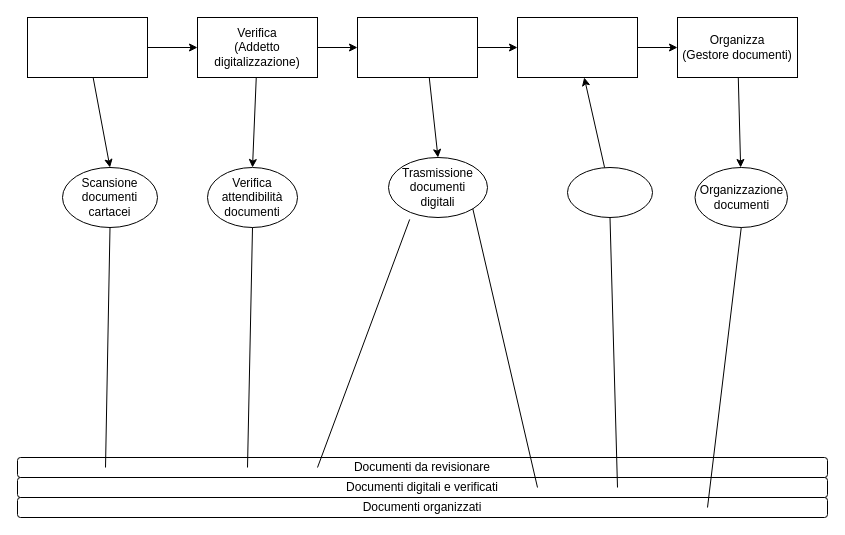
Image size: 845x535. Some labels were removed from this diagram. Here are the shapes that lost their labels. From the top down, the box of each, then its label:
(26, 16, 148, 78): Scansiona (Addetto digitalizzazione)
(356, 16, 478, 78): Trasmette (Addetto digitalizzazione)
(516, 16, 638, 78): Lavora (Gestore documenti)
(566, 166, 652, 218): Lavorazione documenti
